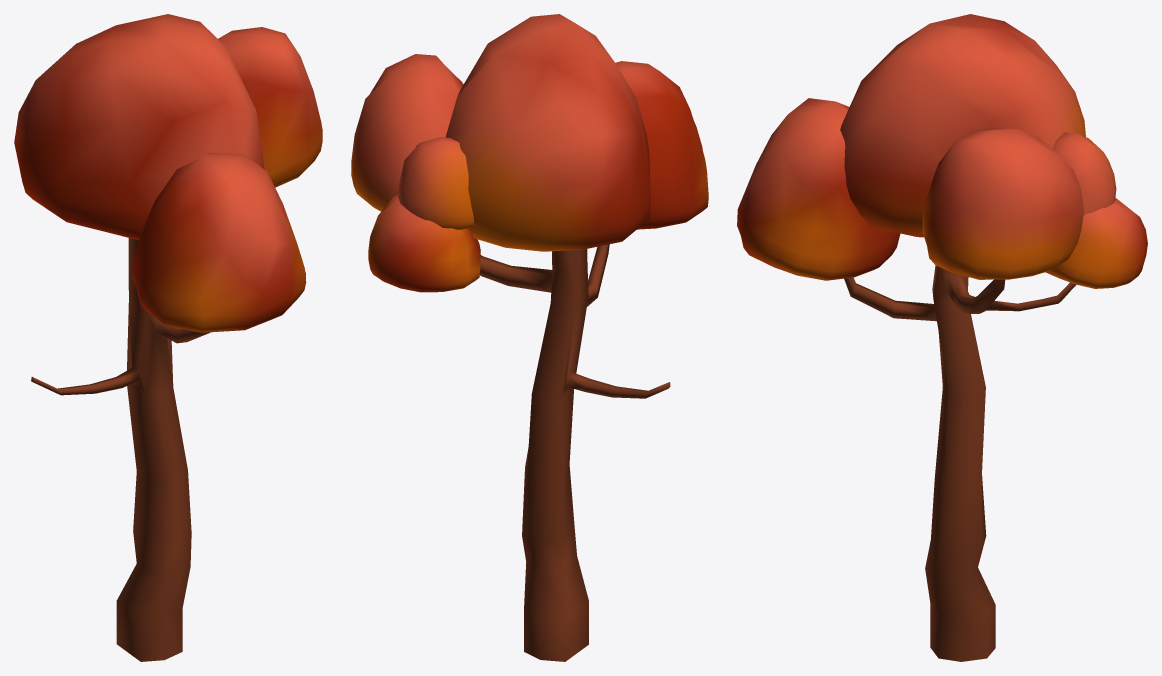
The model's file is tree.fbx.
The picture shows the model from 3 angles, left to right: view 1: azimuth 30°, elevation 25°; view 2: azimuth 150°, elevation 25°; view 3: azimuth 270°, elevation 25°; orthographic projection.
Parts seen in each view (by area): view 1: roundTree; view 2: roundTree; view 3: roundTree.
Part boxes in pixels (left/top/right/bottom): roundTree: left=14, top=14, right=322, bottom=661; roundTree: left=351, top=14, right=708, bottom=661; roundTree: left=737, top=14, right=1147, bottom=661.
Size of the model in its own units: 395 by 792 by 472.
